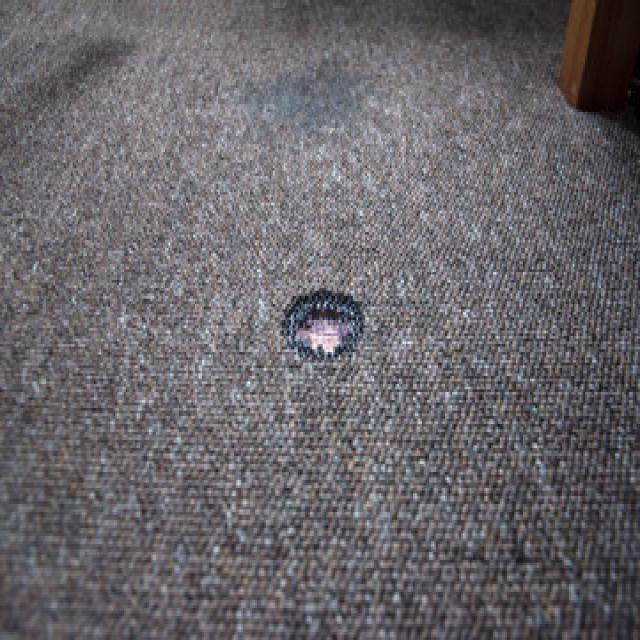Hole: (284, 291, 364, 358)
